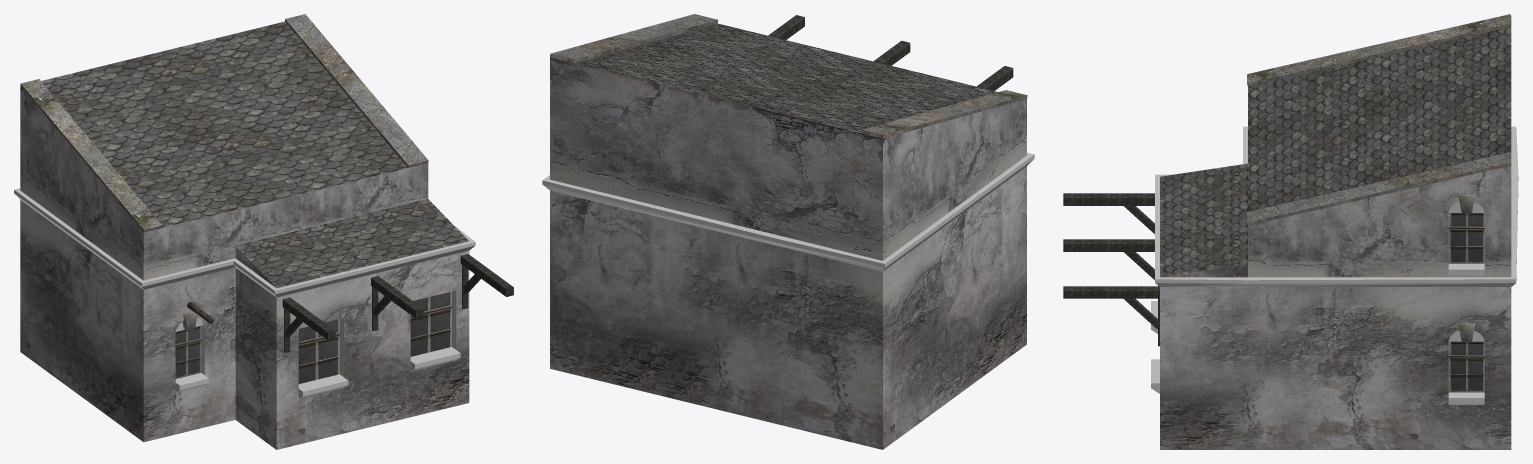
Rendered from Building_Roof_00.fbx.
The picture shows the model from 3 angles, left to right: view 1: azimuth 30°, elevation 25°; view 2: azimuth 150°, elevation 25°; view 3: azimuth 270°, elevation 25°; orthographic projection. The views are drawn at different scales.
Parts seen in each view (by area): view 1: Building_Roof_00; view 2: Building_Roof_00; view 3: Building_Roof_00.
Part boxes in pixels (box(x1,y1,x2,y2)): Building_Roof_00: box(14, 14, 513, 449); Building_Roof_00: box(542, 14, 1034, 449); Building_Roof_00: box(1063, 14, 1518, 449).
Size of the model in its own units: 520 by 451 by 647.
